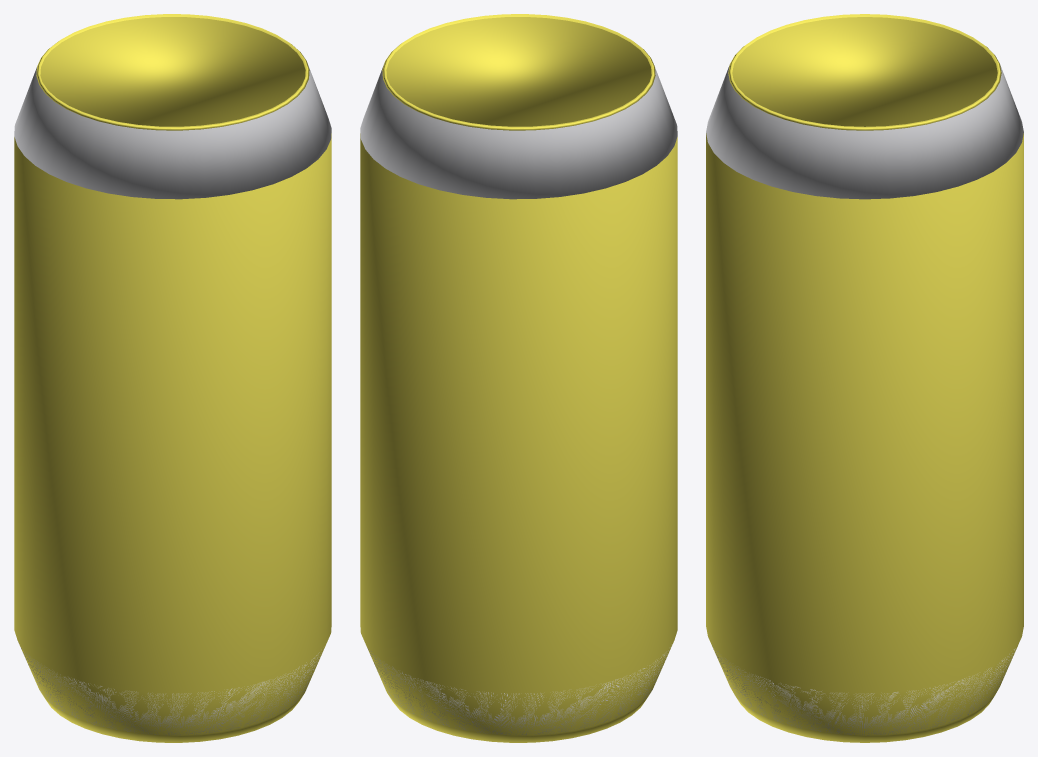
File: SM_Lynet.glb
The picture shows the model from 3 angles, left to right: view 1: azimuth 30°, elevation 25°; view 2: azimuth 150°, elevation 25°; view 3: azimuth 270°, elevation 25°; orthographic projection.
Parts seen in each view (by area): view 1: SM_Lynet; view 2: SM_Lynet; view 3: SM_Lynet.
Boxes of the visible parts, x1,y1,x2,y2 form: SM_Lynet: [14, 14, 331, 742]; SM_Lynet: [360, 14, 677, 742]; SM_Lynet: [706, 14, 1023, 742].
Bounding box in the file's own units: 0.056 × 0.12 × 0.056.
